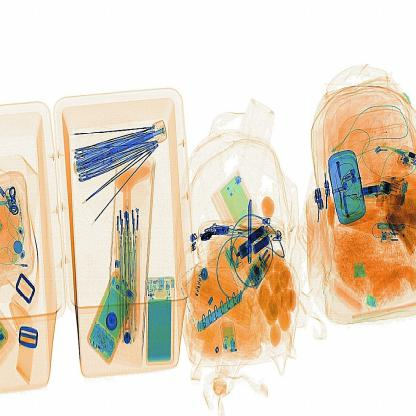pliers: (240, 196, 261, 274)
